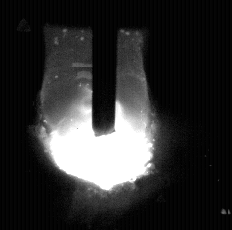arame: (93, 0, 117, 137)
poca: (42, 0, 156, 230)
